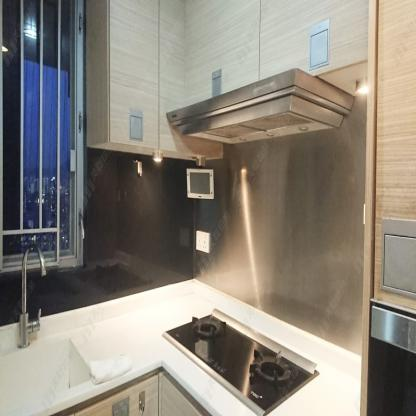Cupboard: (87, 0, 369, 157)
Exhaust Hood: (169, 66, 354, 146)
Faucet: (19, 235, 46, 340)
Oven: (366, 304, 416, 415)
Sink: (0, 335, 94, 415)
Stove: (162, 304, 322, 415)
